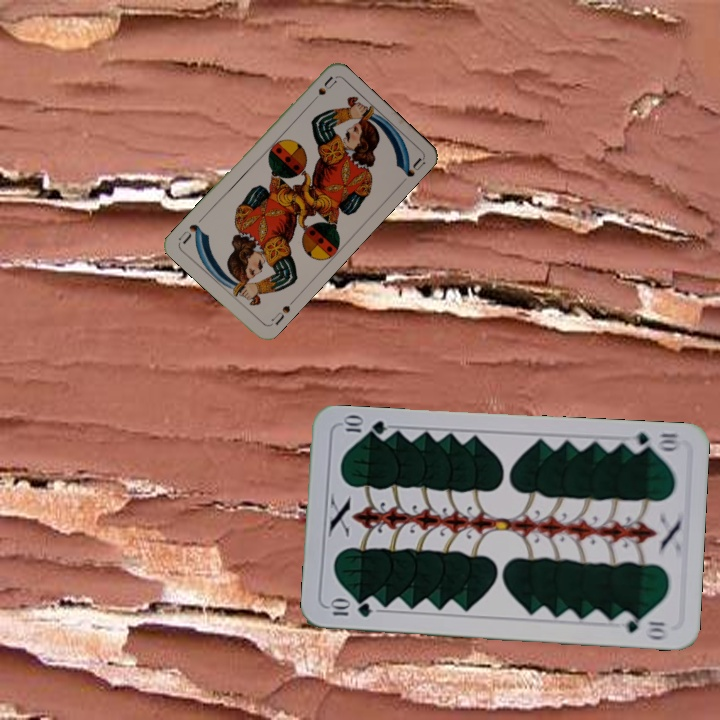G10: (624, 428, 683, 455), (326, 598, 374, 620)
SU: (305, 73, 339, 107), (266, 295, 298, 328)
